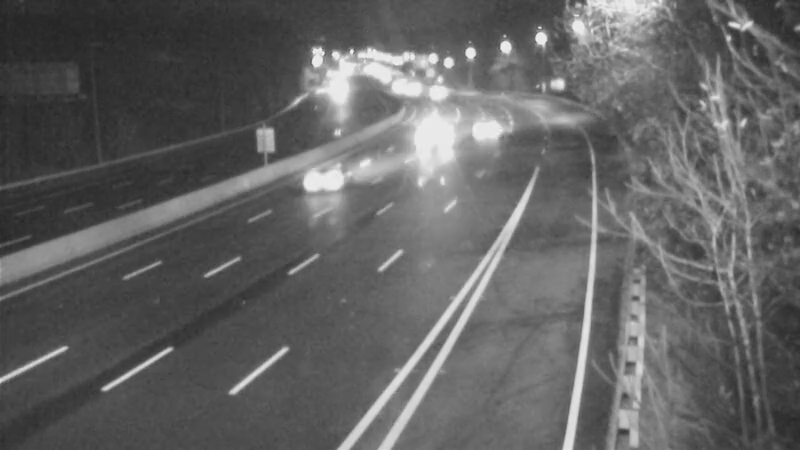vehicle: (304, 135, 384, 215), (414, 65, 464, 115), (401, 97, 451, 147), (451, 107, 501, 157), (415, 111, 465, 161)
